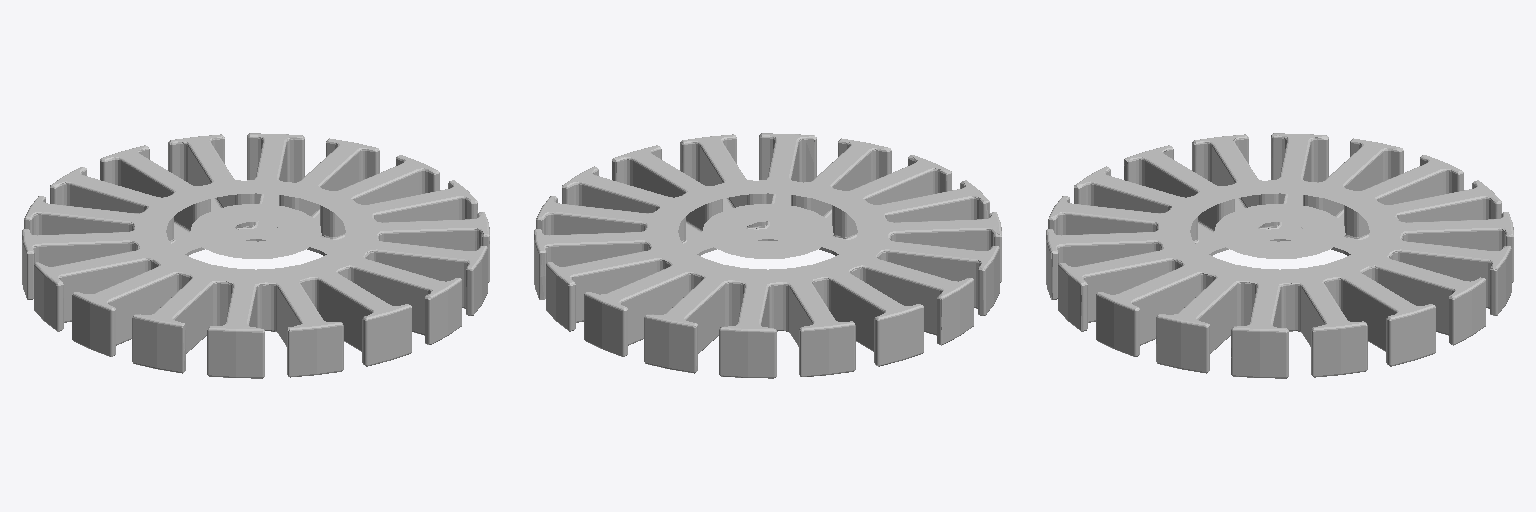
The model's file is solo12_hip_fe_11.obj.
3 views of the same model, side by side, from view 1: azimuth 30°, elevation 25°; view 2: azimuth 150°, elevation 25°; view 3: azimuth 270°, elevation 25° (orthographic).
Bounding box in the file's own units: 0.039 × 0.0045 × 0.039.